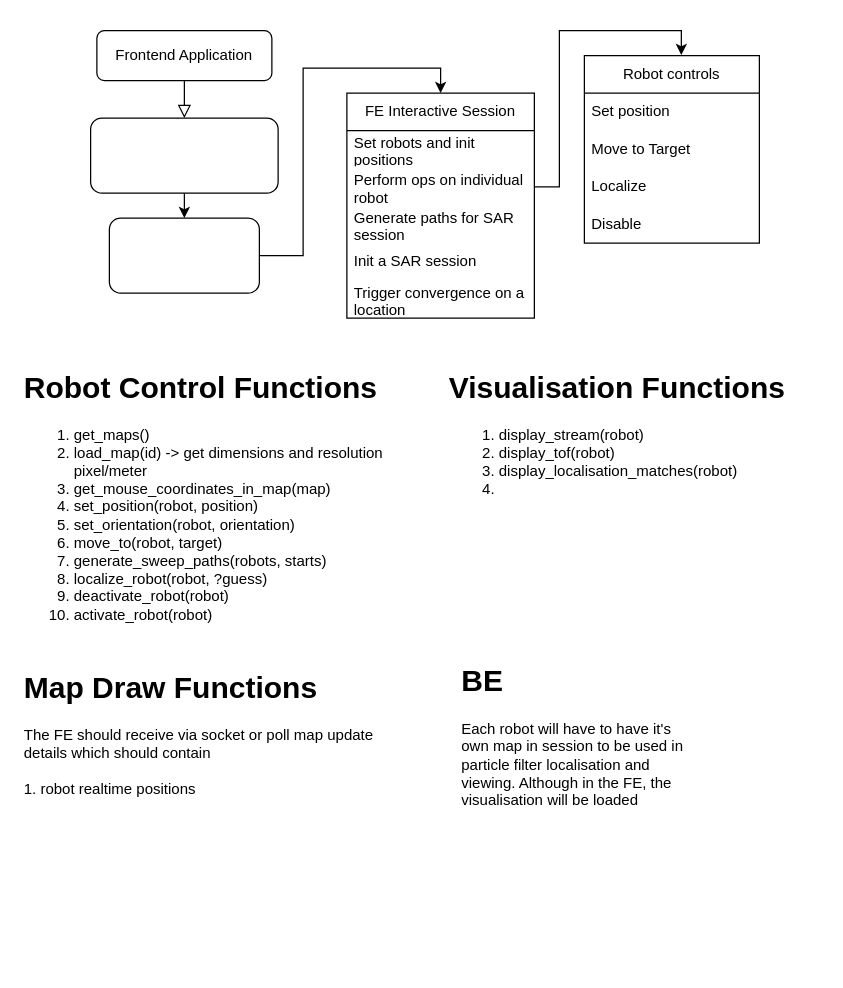
This 843x988 diagram has some shape labels left out. Each missing label, with the centre of its shape:
Frontend starts an Interactive session with that map: the point at 183,255
Load a specific map from backend's list of maps: the point at 183,155
